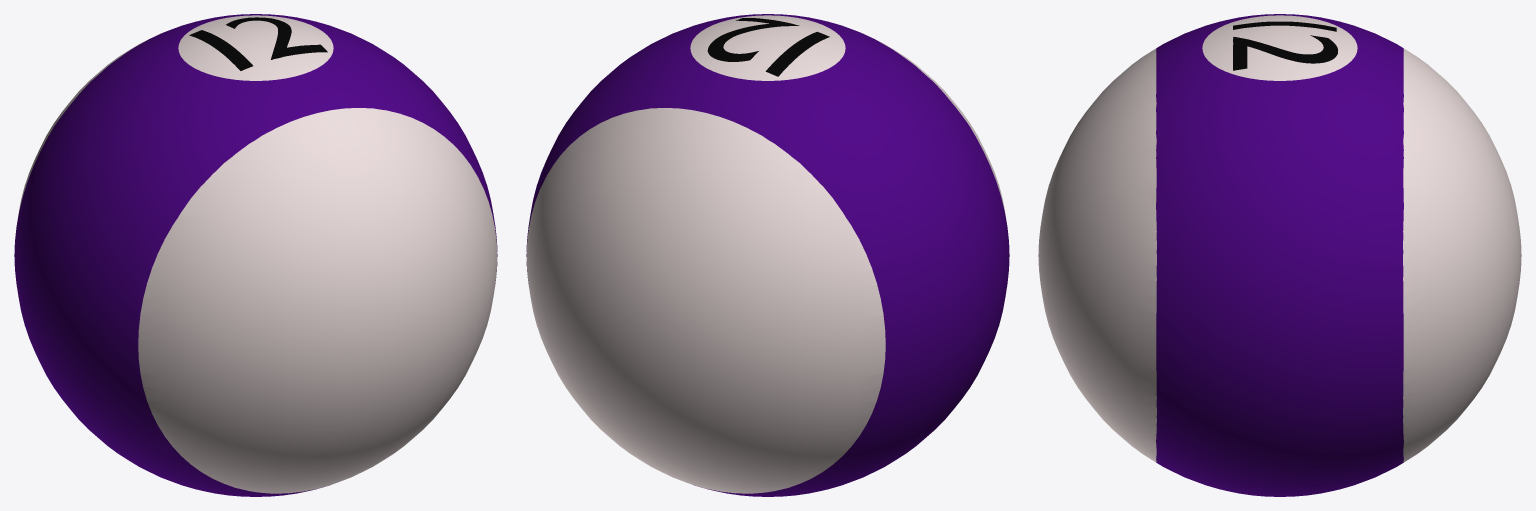
Rendered from twelveBall.glb.
3 renders of one model, left to right at view 1: azimuth 30°, elevation 25°; view 2: azimuth 150°, elevation 25°; view 3: azimuth 270°, elevation 25°, orthographic.
Parts seen in each view (by area): view 1: Sphere; view 2: Sphere; view 3: Sphere.
Part boxes in pixels (bbox=[...]): Sphere: bbox=[14, 14, 497, 496]; Sphere: bbox=[526, 14, 1009, 496]; Sphere: bbox=[1038, 14, 1521, 496].
Bounding box in the file's own units: 0.127 × 0.127 × 0.127.
